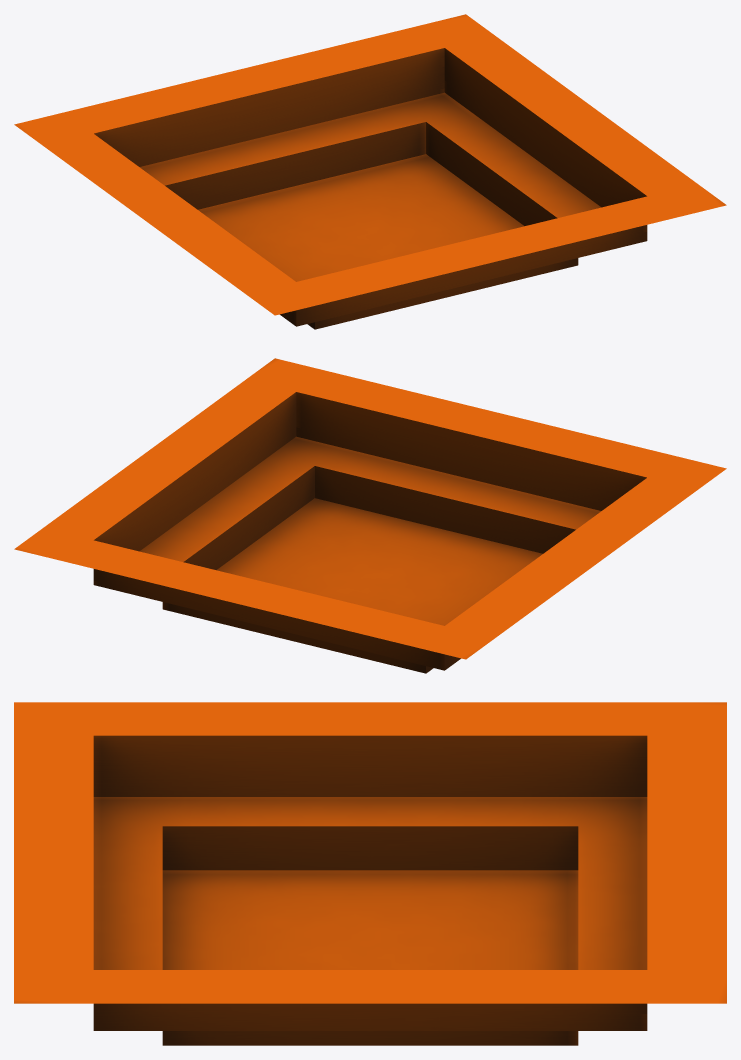
Rendered from pit.fbx.
3 renders of one model, top to bottom at view 1: azimuth 30°, elevation 25°; view 2: azimuth 150°, elevation 25°; view 3: azimuth 270°, elevation 25°, orthographic. The views are drawn at different scales.
Visible parts, largest first — view 1: grid; view 2: grid; view 3: grid.
Boxes of the visible parts, bbox=[...] form: grid: bbox=[14, 14, 726, 329]; grid: bbox=[14, 358, 726, 673]; grid: bbox=[14, 702, 726, 1045].
Bounding box in the file's own units: 51.49 × 8.38 × 51.49.
1 material, 1 textured.
